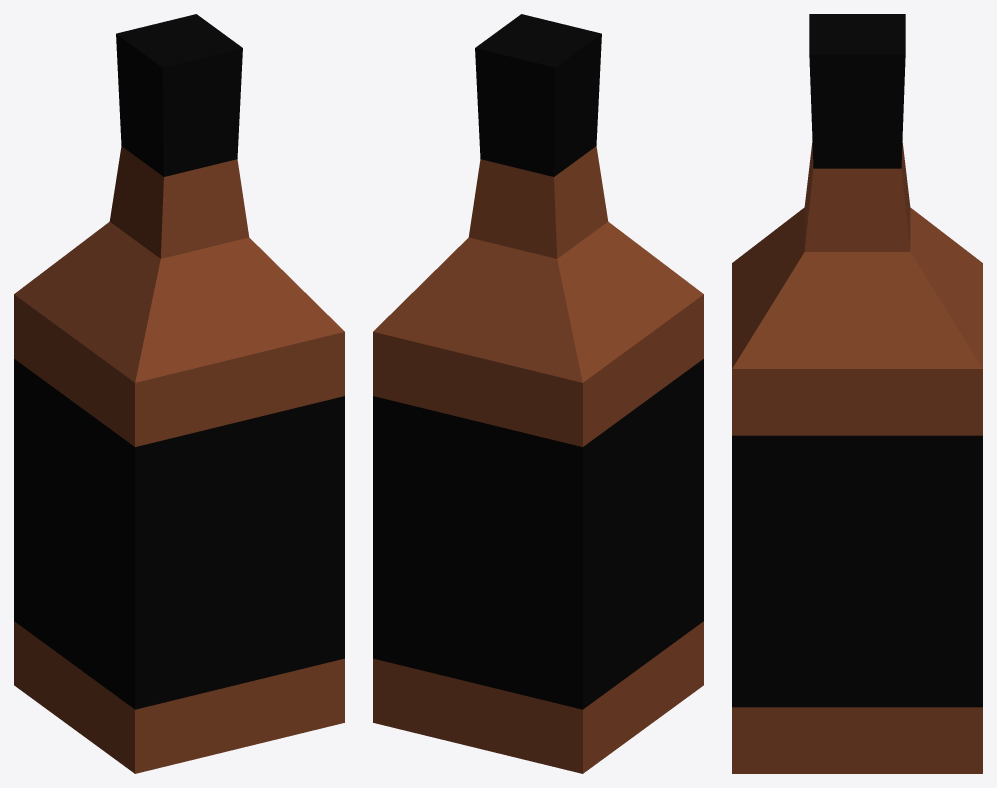
Rendered from JACKA.fbx.
3 views of the same model, side by side, from view 1: azimuth 30°, elevation 25°; view 2: azimuth 150°, elevation 25°; view 3: azimuth 270°, elevation 25° (orthographic). The views are drawn at different scales.
Parts seen in each view (by area): view 1: Cube; view 2: Cube; view 3: Cube.
Part boxes in pixels (left/top/right/bottom): Cube: left=14, top=14, right=344, bottom=773; Cube: left=373, top=14, right=703, bottom=773; Cube: left=732, top=14, right=982, bottom=773.
Size of the model in its own units: 26.28 by 26.28 by 79.38.
